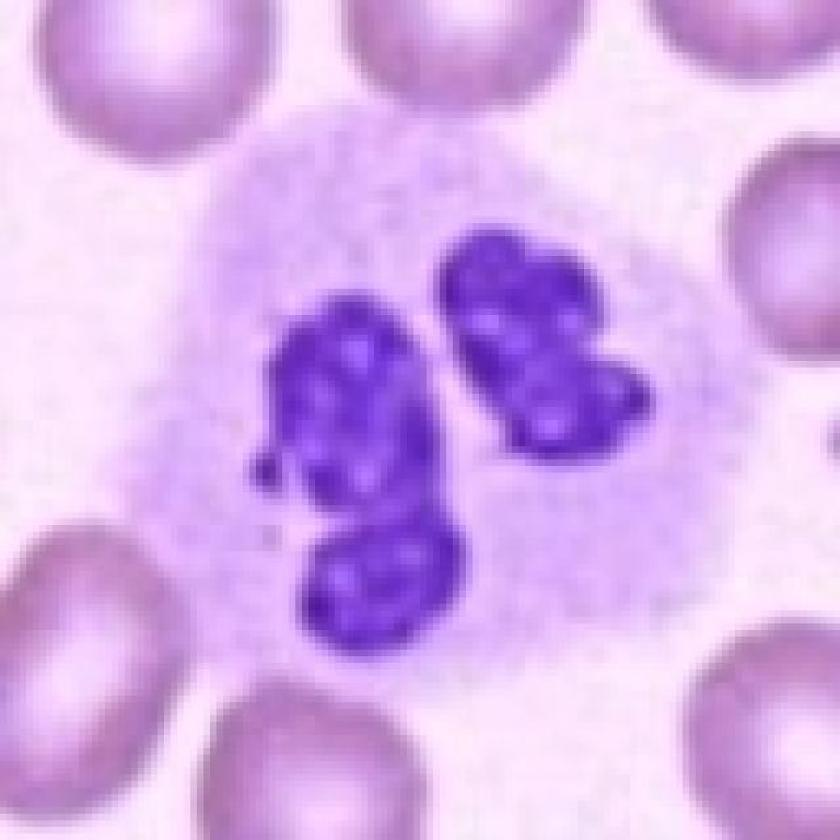neutrophil: (46, 145, 653, 694)
